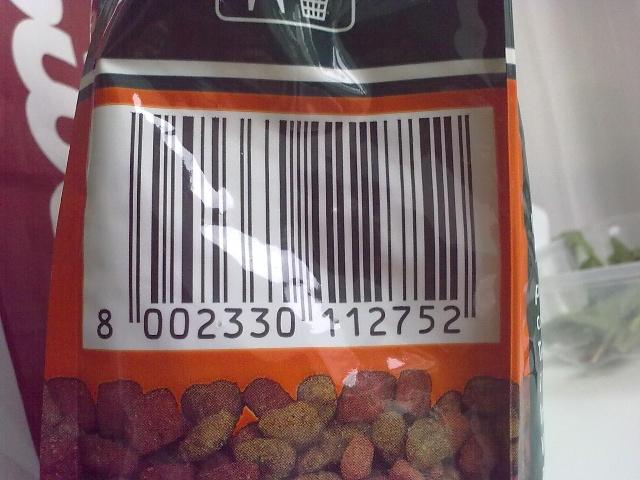Barcode: (83, 105, 501, 349)
